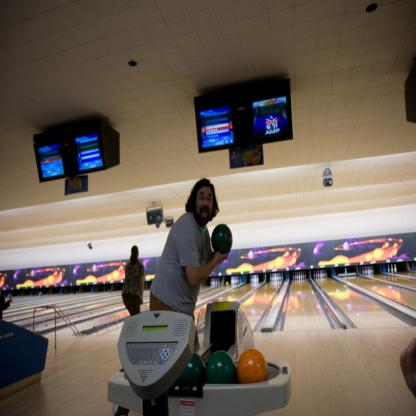Ball: (236, 350, 266, 384), (177, 355, 207, 386), (207, 352, 236, 384), (211, 224, 233, 254)
